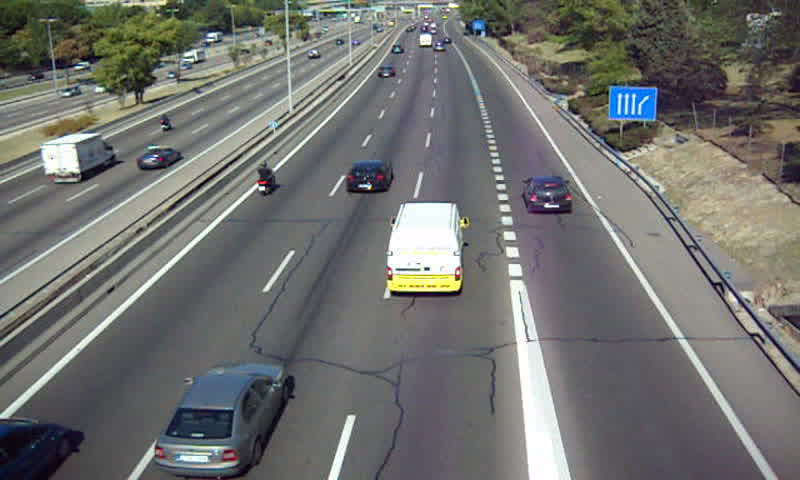car: (155, 364, 285, 476), (524, 176, 575, 211), (344, 161, 393, 192), (377, 64, 397, 80)
motorcycle: (254, 161, 276, 197)
van: (387, 203, 461, 294)
